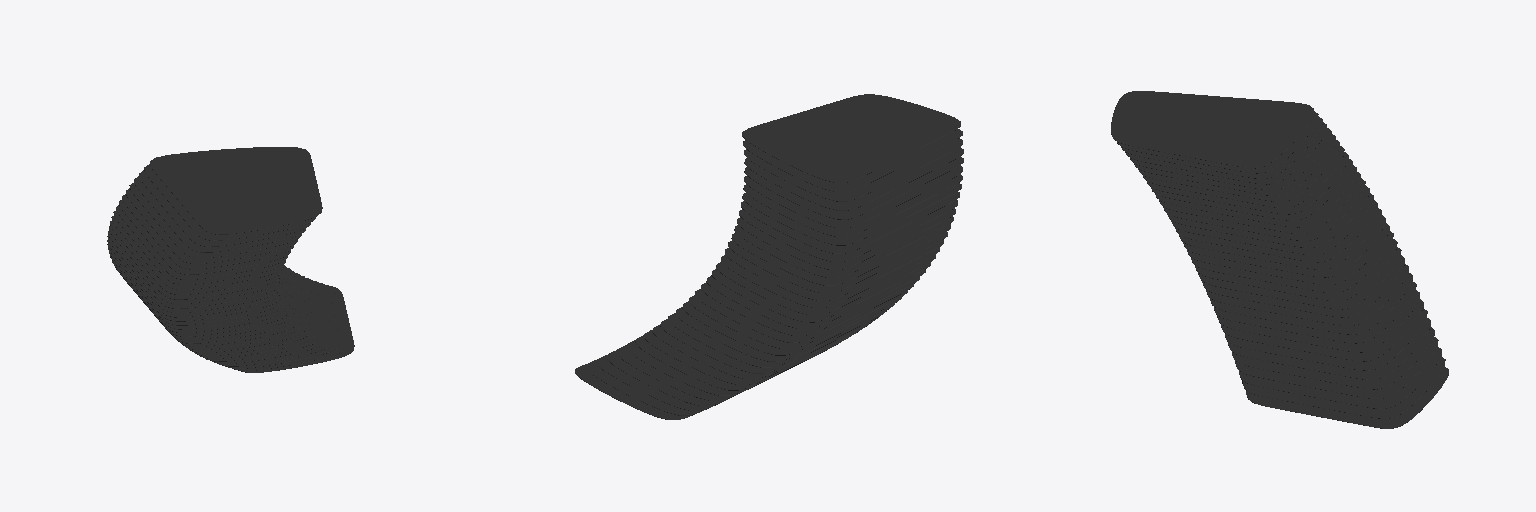
File: banner_facebook_right.obj
3 views of the same model, side by side, from view 1: azimuth 30°, elevation 25°; view 2: azimuth 150°, elevation 25°; view 3: azimuth 270°, elevation 25° (orthographic).
Parts seen in each view (by area): view 1: Plane.001; view 2: Plane.001; view 3: Plane.001.
Boxes of the visible parts, <box> form: Plane.001: <box>107,147,354,372</box>; Plane.001: <box>575,94,963,419</box>; Plane.001: <box>1111,91,1448,428</box>.
Bounding box in the file's own units: 14.37 × 10.63 × 15.33.